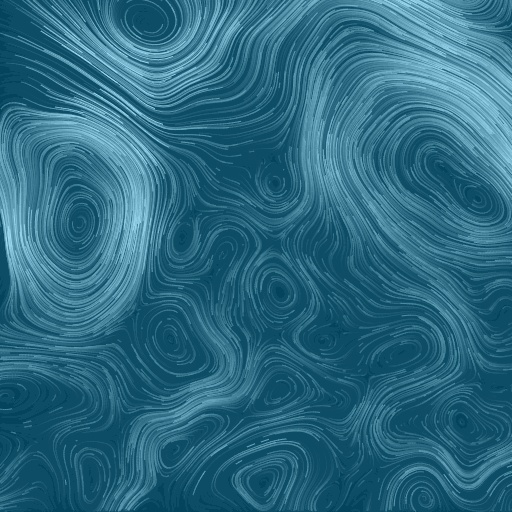eddy: (10, 134, 151, 304), (405, 130, 511, 232), (141, 300, 222, 380), (154, 409, 227, 470), (228, 452, 301, 511), (248, 261, 311, 324), (436, 394, 502, 454), (362, 327, 437, 379), (243, 363, 309, 421), (71, 445, 115, 507), (119, 1, 174, 44), (255, 158, 298, 205), (166, 213, 204, 259), (404, 483, 441, 512)
